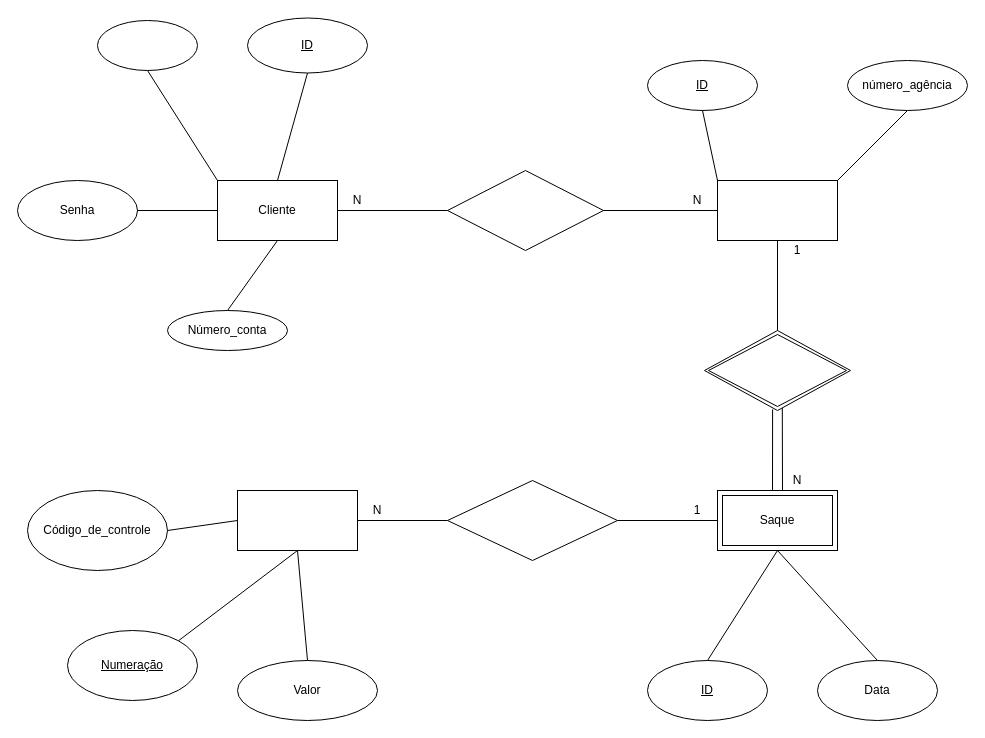
Image size: 985x738. Some labels were removed from this diagram. Here are the shapes that lost their labels. From the top down, the centre of each, then its label:
the point at 147,45: Nome
the point at 525,210: Consulta
the point at 777,210: Caixa eletrônico
the point at 777,370: Realiza
the point at 297,520: Nota
the point at 532,520: Conta
